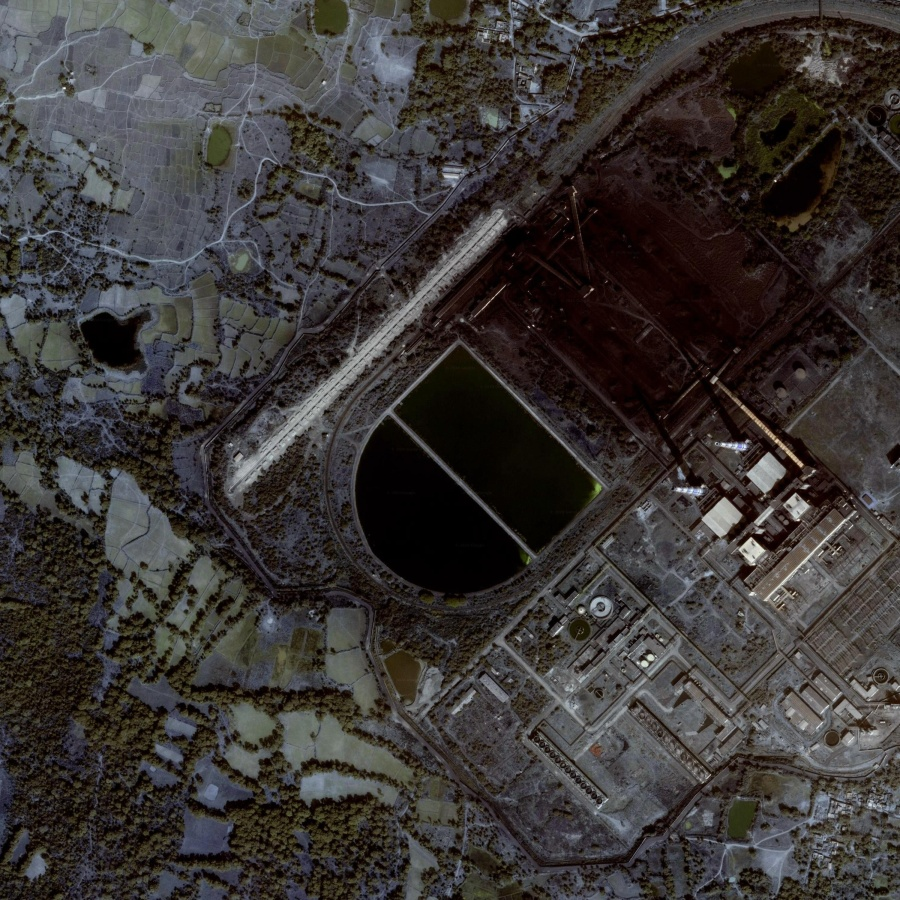PowerPlant: (338, 113, 849, 625)
